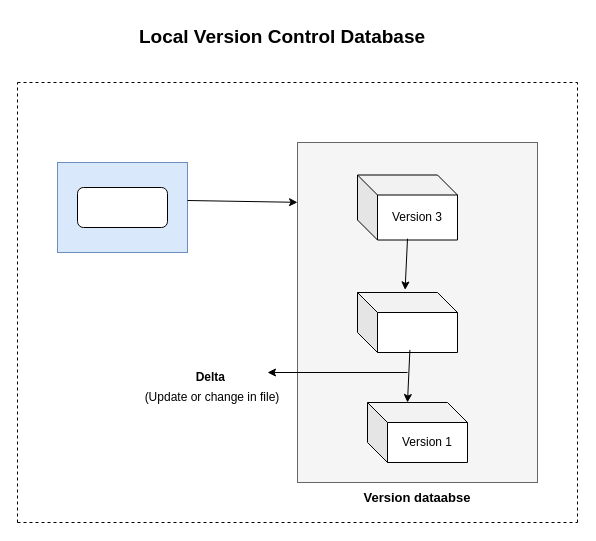
Image size: 596x541. Some labels were removed from this diagram. Here are the shapes that lost their labels. From the top down, the centre of each, then its label:
At [122,207]: "Files".
At [407,322]: "Version 2".
